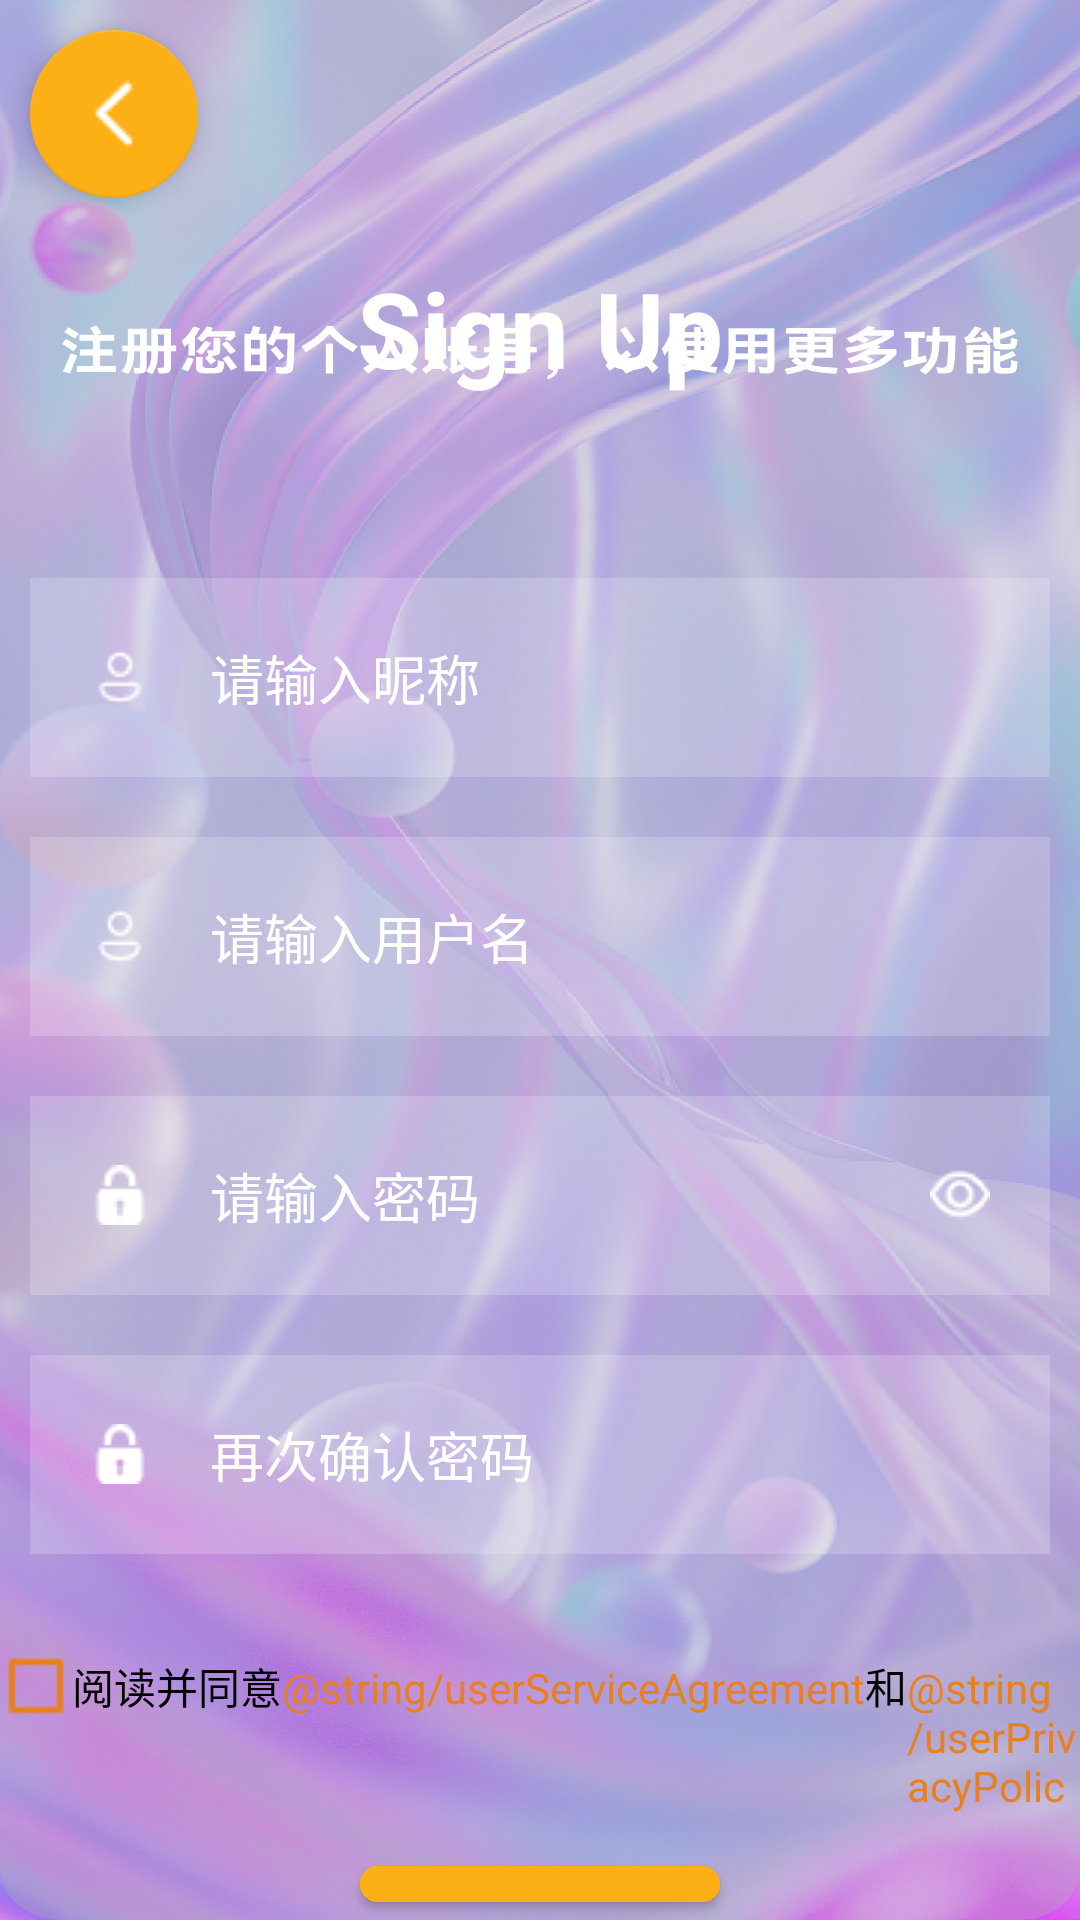

Where to tap for icons on this 1080px×1920px app screen, as point (x, y):
back: point (114, 114)
